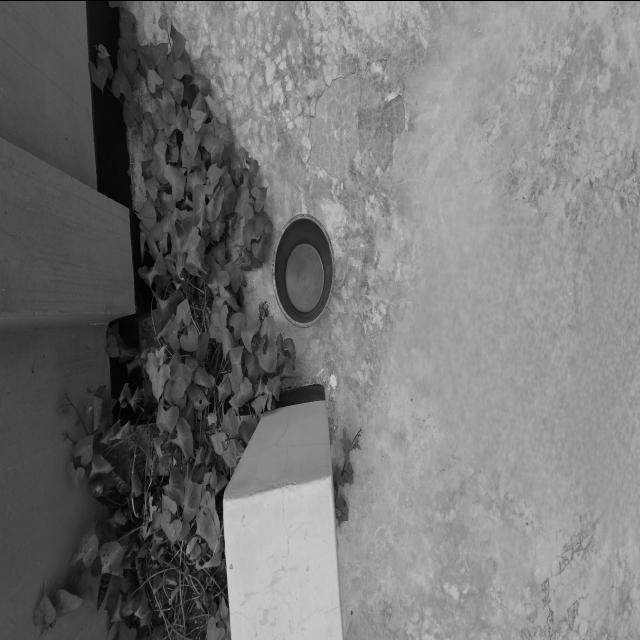Breeding Place: (97, 0, 296, 640), (272, 206, 341, 336)
